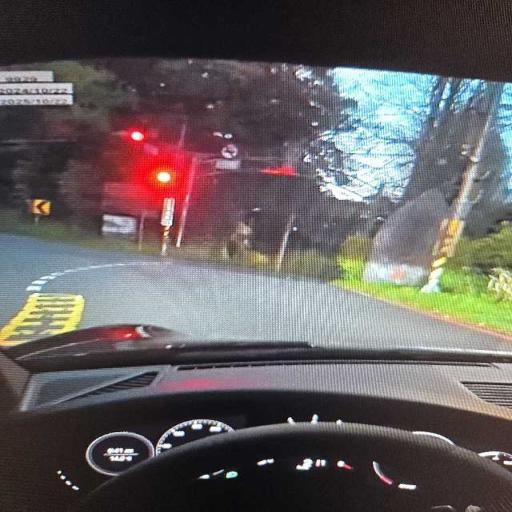car: (0, 3, 511, 511)
lane: (0, 236, 510, 349)
